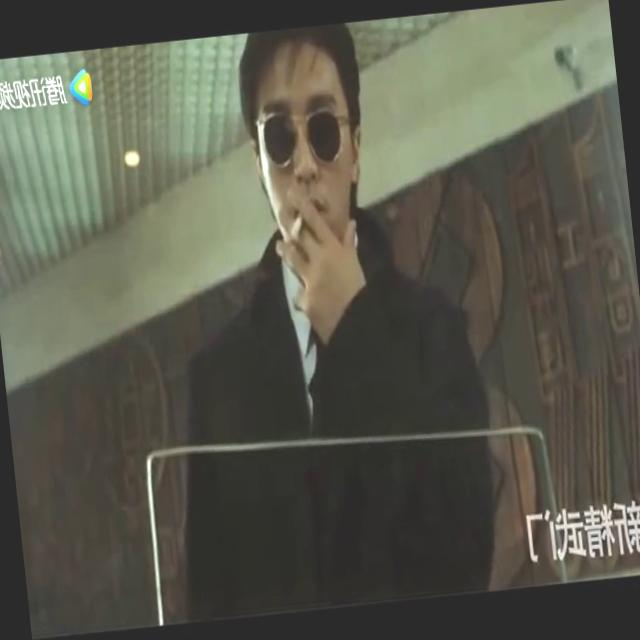cigarette: (286, 209, 306, 241)
